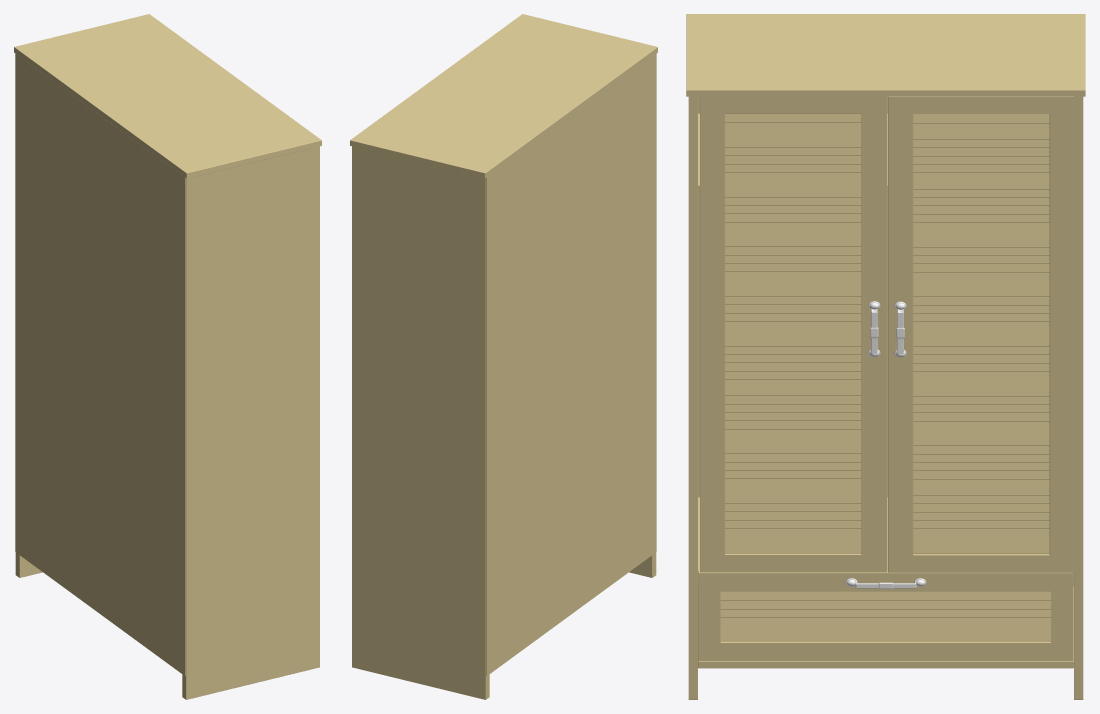
Rendered from guarda roupa.fbx.
The picture shows the model from 3 angles, left to right: view 1: azimuth 30°, elevation 25°; view 2: azimuth 150°, elevation 25°; view 3: azimuth 270°, elevation 25°; orthographic projection. The views are drawn at different scales.
Visible parts, largest first — view 1: Object_5, Object_19, Object_27; view 2: Object_5, Object_21, Object_27; view 3: Object_13, Object_25.001, Object_27, Object_11, Object_23, Object_19, Object_21, Object_7, Object_5.
Boxes of the visible parts, x1=… form: Object_5: x1=15, y1=53, x2=185, y2=676; Object_19: x1=182, y1=146, x2=319, y2=699; Object_27: x1=14, y1=14, x2=321, y2=178; Object_5: x1=486, y1=53, x2=656, y2=676; Object_21: x1=352, y1=146, x2=489, y2=699; Object_27: x1=350, y1=14, x2=657, y2=178; Object_13: x1=886, y1=96, x2=1074, y2=572; Object_25.001: x1=700, y1=96, x2=886, y2=572; Object_27: x1=686, y1=14, x2=1085, y2=96; Object_11: x1=698, y1=570, x2=1073, y2=661; Object_23: x1=720, y1=591, x2=1051, y2=641; Object_19: x1=688, y1=96, x2=697, y2=699; Object_21: x1=1074, y1=96, x2=1083, y2=699; Object_7: x1=698, y1=586, x2=1073, y2=668; Object_5: x1=698, y1=96, x2=1073, y2=586.
Bounding box in the file's own units: 268 × 955 × 566.
